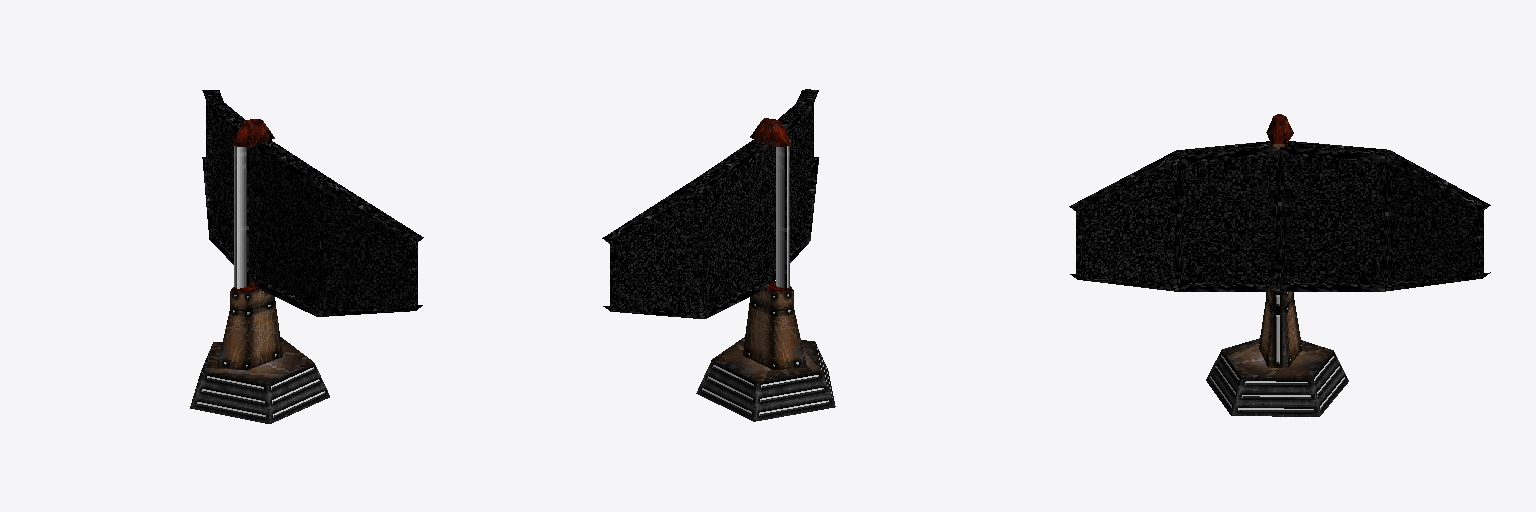
3 renders of one model, left to right at view 1: azimuth 30°, elevation 25°; view 2: azimuth 150°, elevation 25°; view 3: azimuth 270°, elevation 25°, orthographic.
Parts seen in each view (by area): view 1: Radar; view 2: Radar; view 3: Radar.
Part boxes in pixels (x1,y1,x2,y2): Radar: (190, 90, 423, 423); Radar: (602, 89, 835, 421); Radar: (1069, 114, 1490, 416).
Bounding box in the file's own units: 10.77 × 20.84 × 29.4.
1 materials, 1 textured.